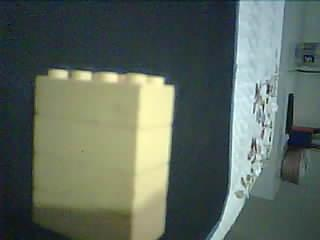lego: (32, 67, 175, 240)
